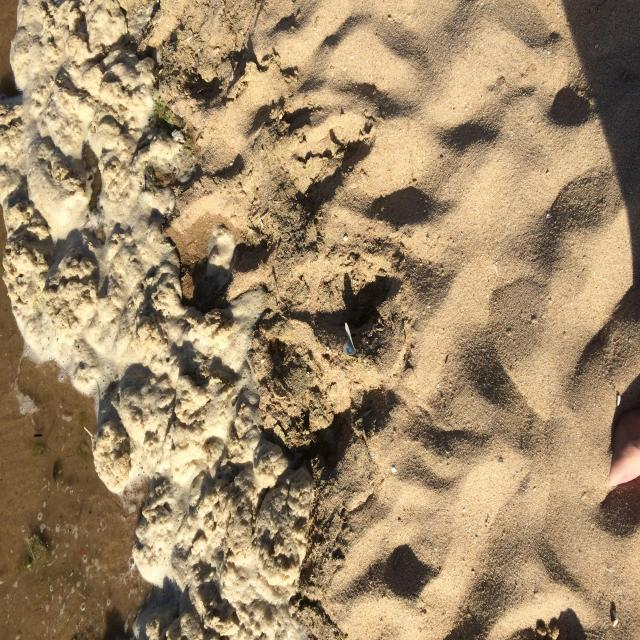Cigarette: (612, 610, 618, 627)
Unlabeled litter: (343, 322, 356, 356)
